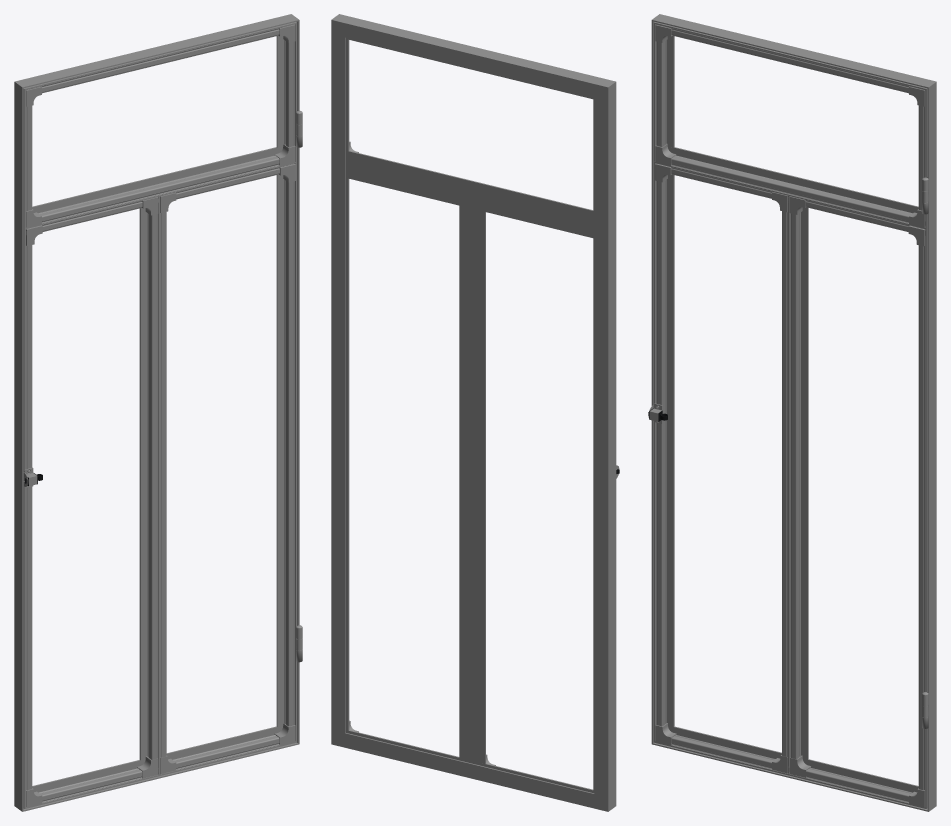
The picture shows the model from 3 angles, left to right: view 1: azimuth 30°, elevation 25°; view 2: azimuth 150°, elevation 25°; view 3: azimuth 330°, elevation 25°; orthographic projection.
Visible parts, largest first — view 1: Rectangle001, Shape002, Rectangle2037, Shape003; view 2: Rectangle2037, Shape002, Shape003, Rectangle001; view 3: Rectangle001, Shape002, Rectangle2037, Shape003.
Part boxes in pixels (x1,y1,x2,y2): Rectangle001: (23, 22, 297, 808); Shape002: (139, 196, 166, 776); Rectangle2037: (14, 14, 299, 811); Shape003: (25, 146, 296, 234); Rectangle2037: (331, 14, 616, 811); Shape002: (459, 193, 485, 763); Shape003: (348, 150, 593, 237); Rectangle001: (345, 38, 594, 793); Rectangle001: (653, 22, 927, 808); Shape002: (782, 196, 808, 775); Rectangle2037: (651, 14, 936, 811); Shape003: (654, 146, 925, 235).
Bounding box in the file's own units: 603 × 1500 × 46.41.
6 materials, 2 textured.
